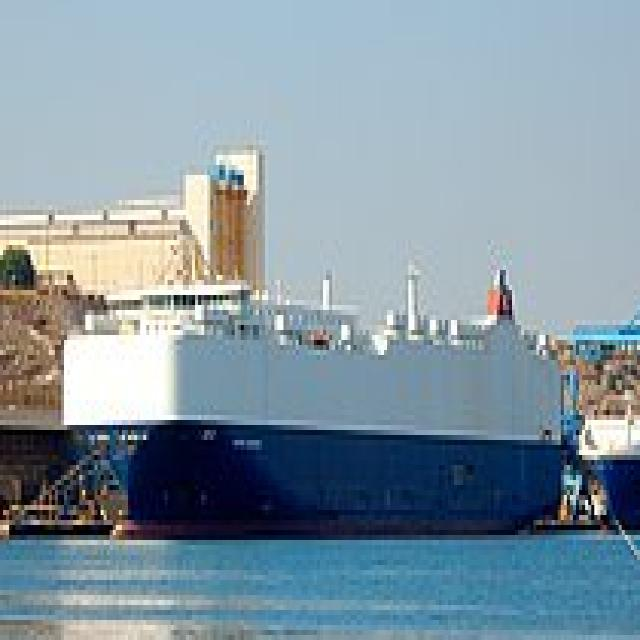Carrier: (61, 260, 561, 535), (573, 395, 637, 530)
